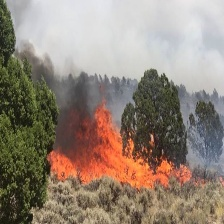fire: (53, 109, 192, 187)
smoke: (16, 1, 220, 102)
